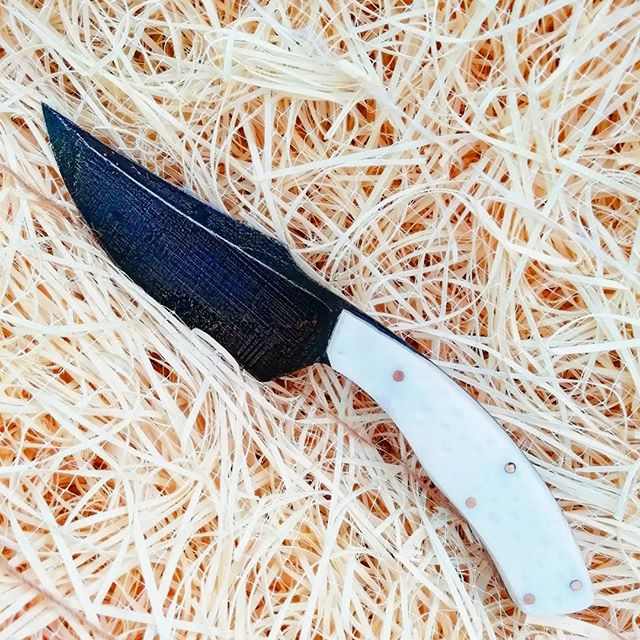knife: (41, 102, 596, 616)
